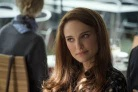female: (55, 13, 108, 78)
